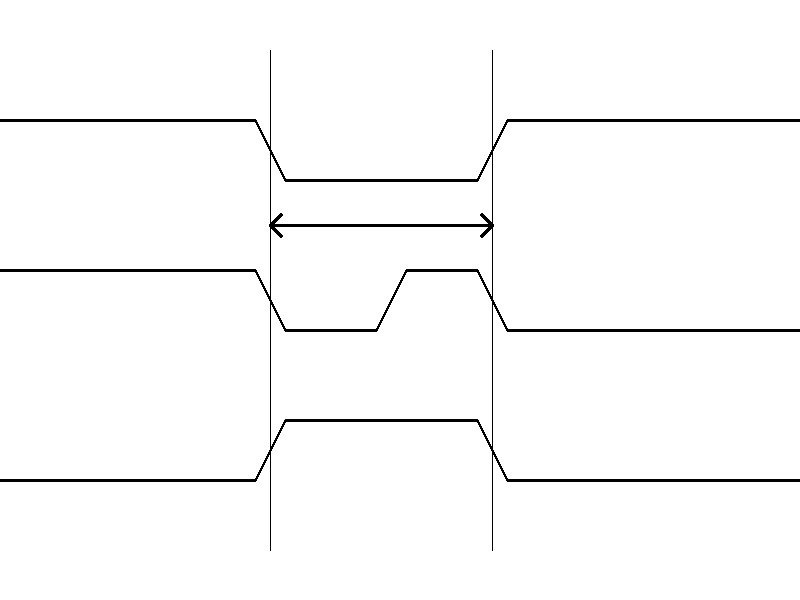double_arrow: (270, 210, 492, 240)
